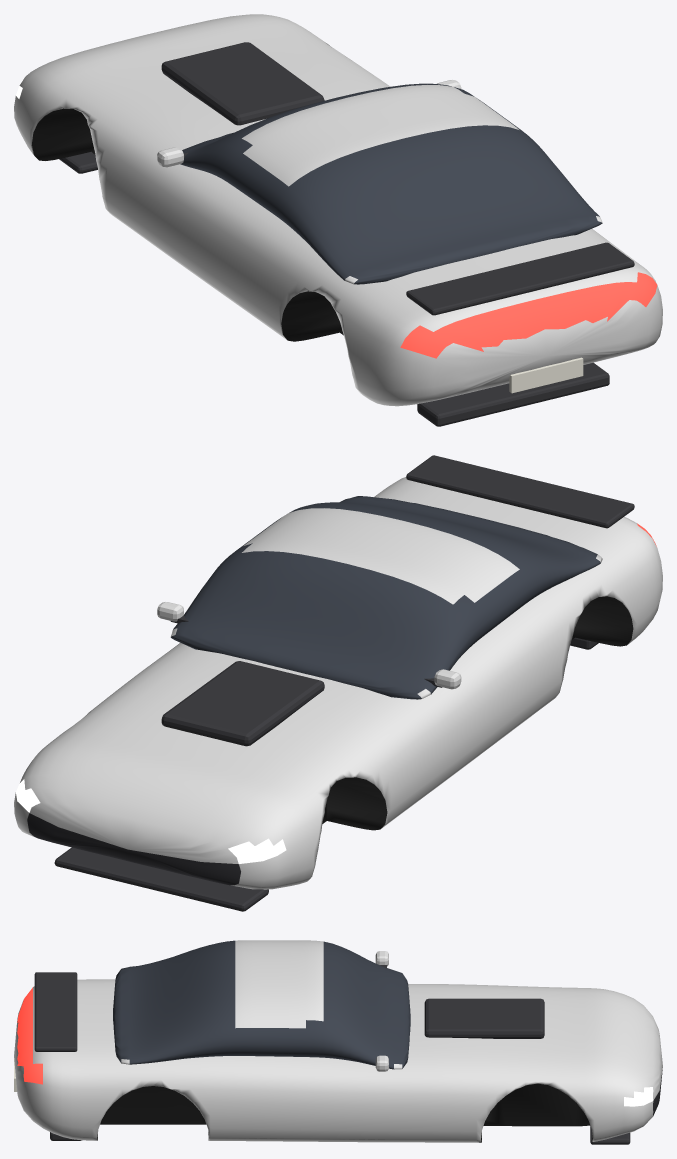
The model's file is brute.glb.
The picture shows the model from 3 angles, top to bottom: view 1: azimuth 30°, elevation 25°; view 2: azimuth 150°, elevation 25°; view 3: azimuth 270°, elevation 25°; orthographic projection. The views are drawn at different scales.
Parts seen in each view (by area): view 1: brute; view 2: brute; view 3: brute.
Boxes of the visible parts, left/top/right/bottom form: brute: left=14, top=14, right=662, bottom=426; brute: left=14, top=455, right=662, bottom=911; brute: left=14, top=940, right=662, bottom=1144.
Size of the model in its own units: 2.01 by 1.17 by 4.87.
